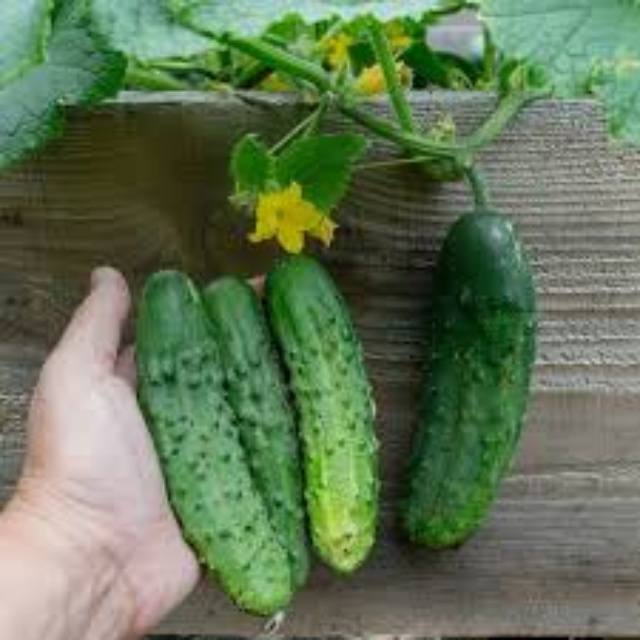dua_leo: (135, 265, 293, 617), (403, 201, 537, 558), (256, 249, 387, 576)
